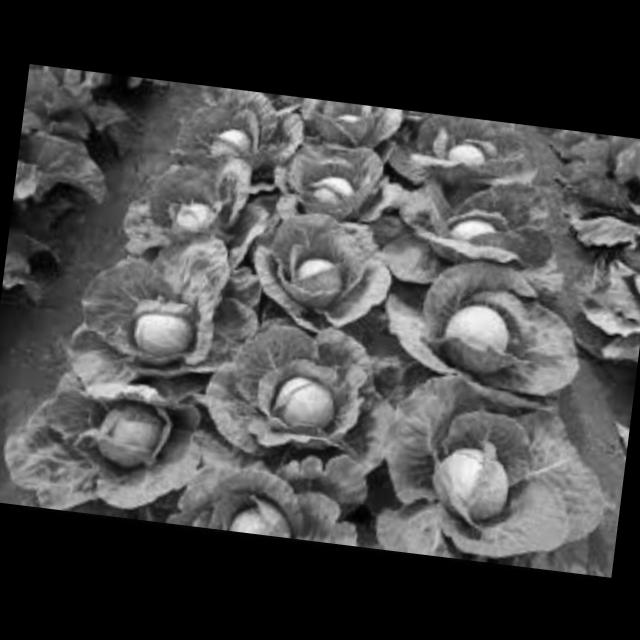cai bap: (418, 432, 534, 536), (424, 288, 532, 376), (81, 391, 180, 484), (256, 348, 347, 436), (118, 279, 207, 367), (428, 186, 520, 263), (432, 112, 530, 180), (293, 143, 377, 219), (276, 238, 356, 316), (198, 104, 266, 174), (225, 484, 308, 538), (166, 174, 232, 238), (327, 100, 388, 148)
